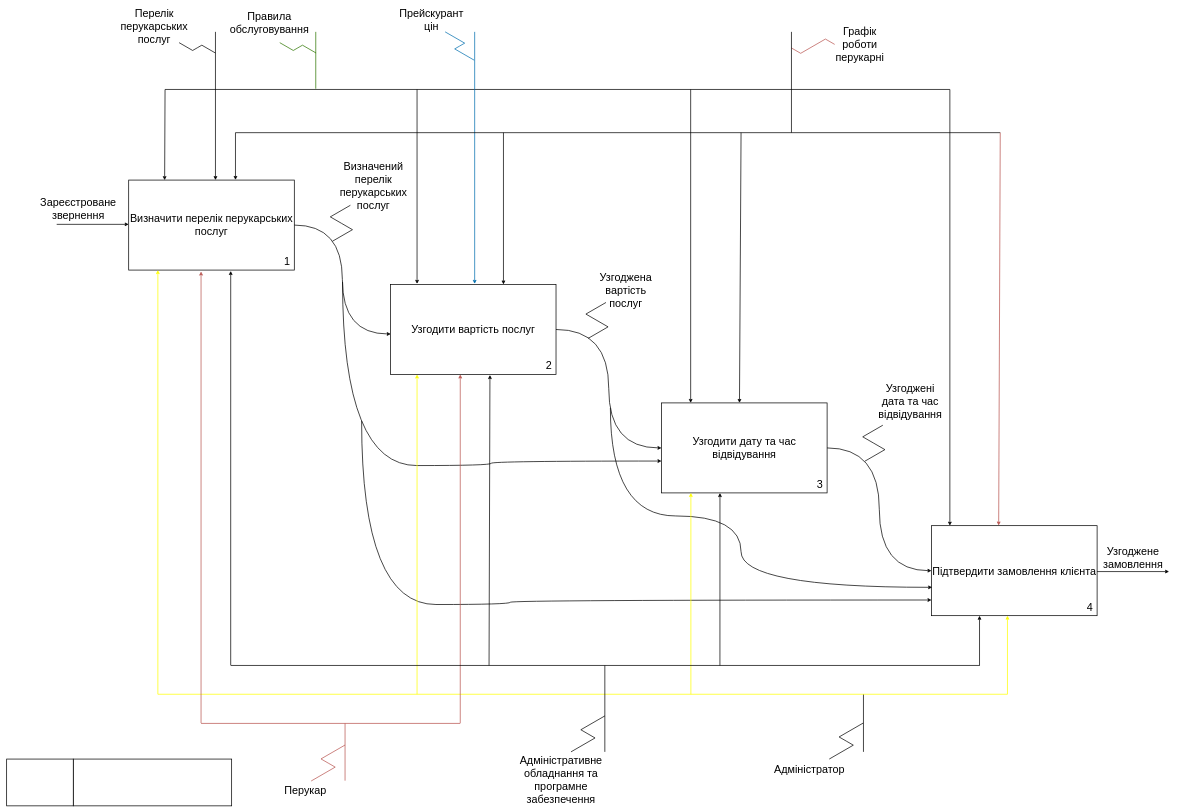
Image size: 1178x812. Some labels were removed from this diagram. Here are the shapes that lost their labels. From the top down, the centre of each, then its label:
At [39,782]: "A2".
At [152,782]: "Визначити та узгодити умови обслуговування клієнта".
